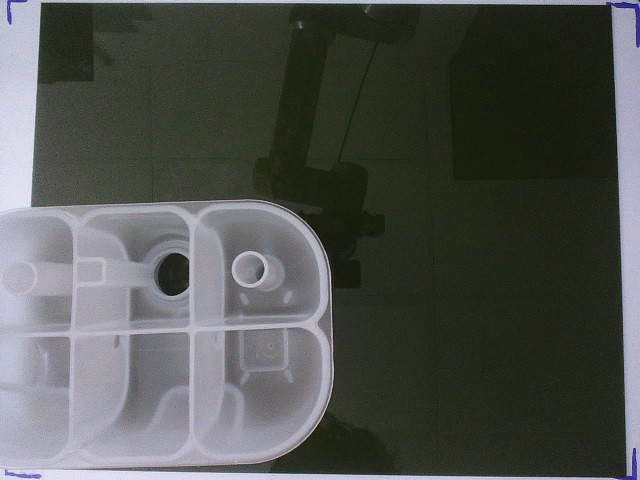reservoir_transparent_Under: (1, 200, 334, 480)
